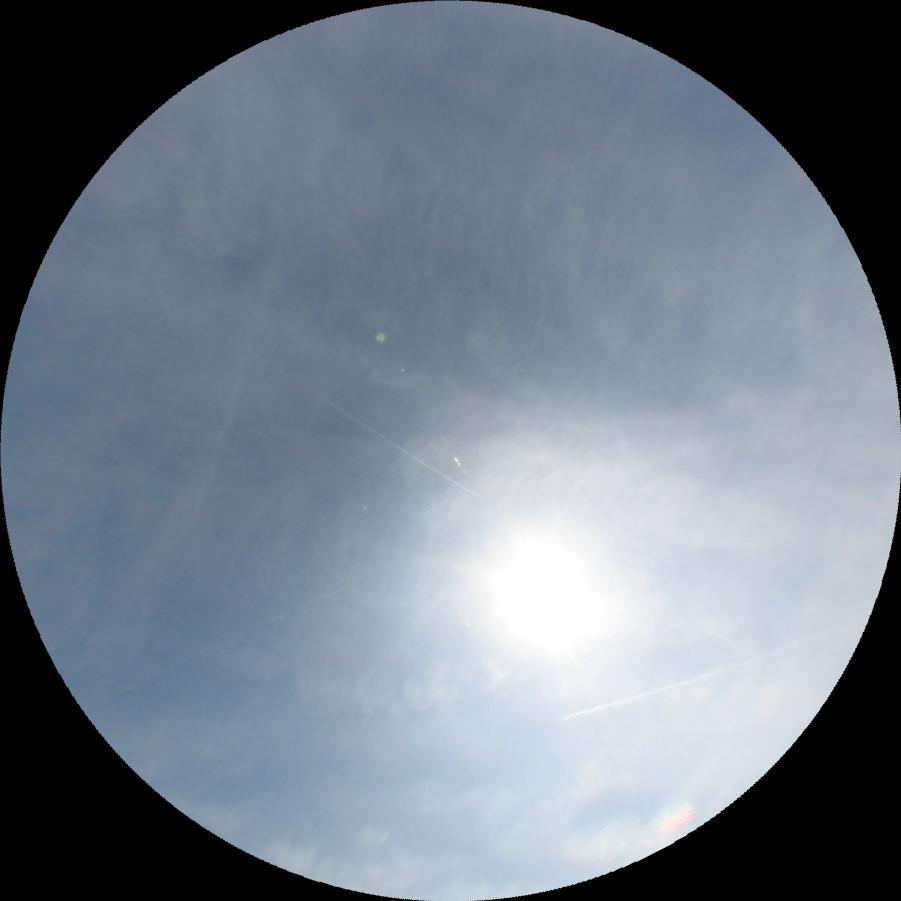contrail young: (193, 313, 484, 502), (557, 639, 802, 727)
parasite: (81, 579, 357, 714)
sun: (500, 495, 670, 677)
unknow: (82, 226, 331, 663)
